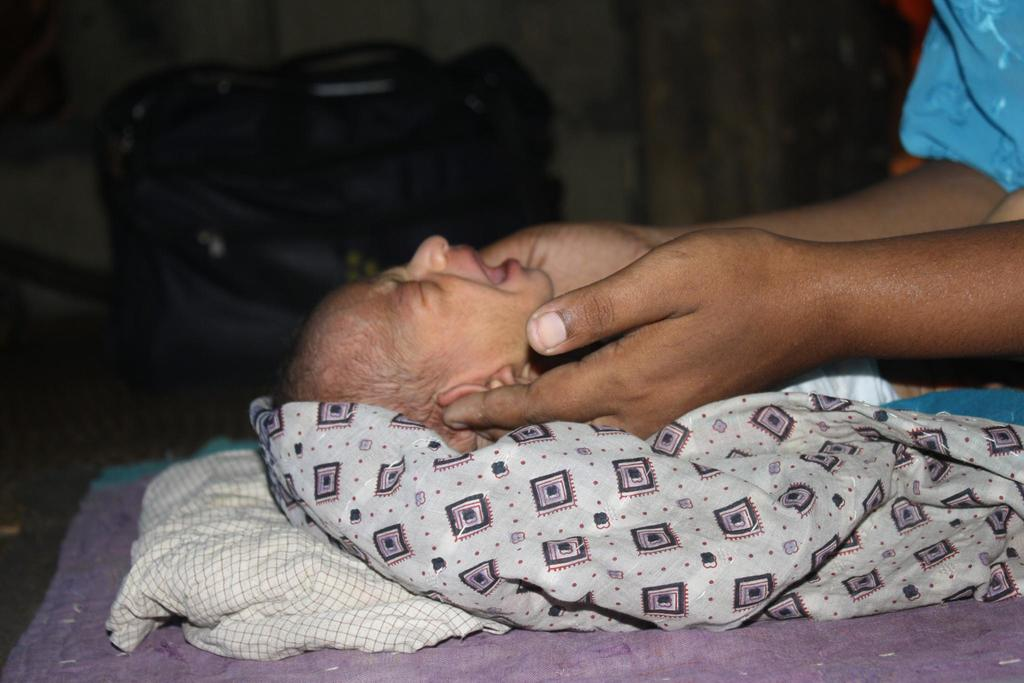Human_hand: (500, 195, 987, 446), (476, 223, 653, 299)
